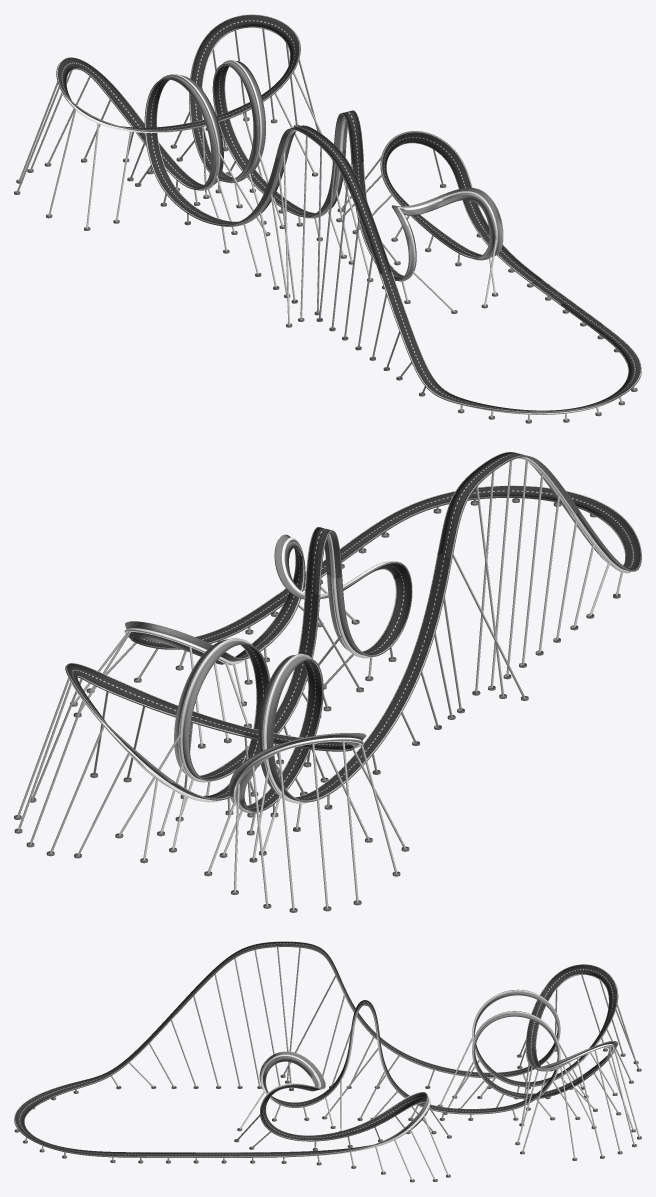
The model's file is costerpath.glb.
3 views of the same model, one above another, from view 1: azimuth 30°, elevation 25°; view 2: azimuth 150°, elevation 25°; view 3: azimuth 270°, elevation 25° (orthographic). The views are drawn at different scales.
Visible parts, largest first — view 1: rollercoster path; view 2: rollercoster path; view 3: rollercoster path.
Boxes of the visible parts, <box> form: rollercoster path: <box>14,14,641,423</box>; rollercoster path: <box>14,452,641,912</box>; rollercoster path: <box>14,941,641,1182</box>.
Bounding box in the file's own units: 7.35 × 3.72 × 14.68.
Materials: 4 (1 with a texture image).
